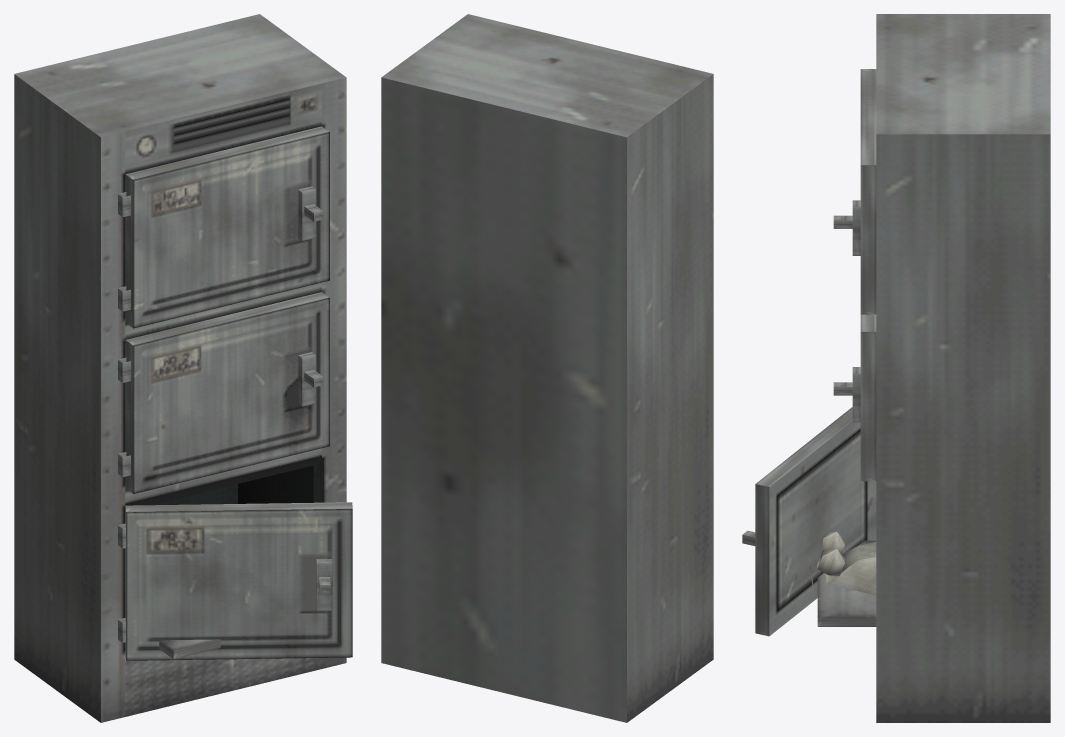
Rendered from morgue_cabinet.obj.
3 renders of one model, left to right at view 1: azimuth 30°, elevation 25°; view 2: azimuth 150°, elevation 25°; view 3: azimuth 270°, elevation 25°, orthographic.
Parts seen in each view (by area): view 1: morgue_cabinet; view 2: morgue_cabinet; view 3: morgue_cabinet.
Boxes of the visible parts, x1,y1,x2,y2 form: morgue_cabinet: (14, 14, 352, 722); morgue_cabinet: (381, 14, 713, 722); morgue_cabinet: (742, 14, 1050, 722).
Bounding box in the file's own units: 0.9 × 2.05 × 0.9732.
1 material, 1 textured.
